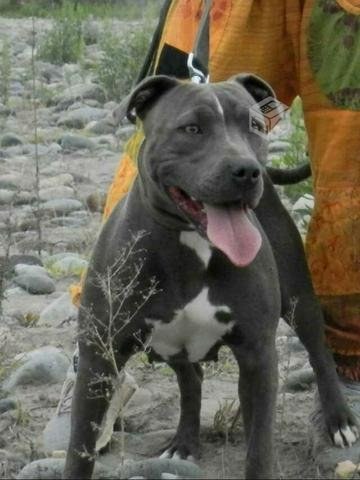Perro Pitbull: (67, 60, 354, 480)
